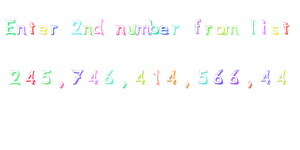,: (181, 76, 195, 94), (243, 77, 257, 92), (117, 78, 131, 91), (56, 80, 68, 92)
1: (148, 67, 165, 88)
2: (6, 66, 23, 88), (67, 16, 82, 36)
4: (273, 65, 292, 90), (257, 65, 274, 90), (23, 65, 38, 89), (166, 68, 181, 90), (87, 69, 102, 90), (133, 66, 147, 87)
5: (38, 64, 54, 88), (198, 65, 211, 89)
6: (226, 64, 243, 88), (211, 64, 226, 90), (102, 64, 117, 89)
7: (71, 63, 85, 87)
E: (3, 16, 16, 39)
b: (148, 15, 159, 37)
d: (92, 14, 109, 37)
e: (158, 19, 171, 37), (37, 19, 48, 39)
f: (189, 15, 201, 36)
i: (259, 16, 268, 39)
l: (245, 14, 258, 38)
m: (223, 20, 242, 38), (136, 20, 149, 37)
n: (113, 23, 127, 38), (81, 23, 93, 40), (16, 21, 27, 38)
o: (215, 22, 226, 38)
r: (49, 21, 62, 42), (202, 22, 213, 38), (171, 18, 179, 37)
s: (268, 22, 282, 38)
t: (281, 18, 292, 38), (28, 17, 37, 39)
u: (127, 21, 138, 39)
